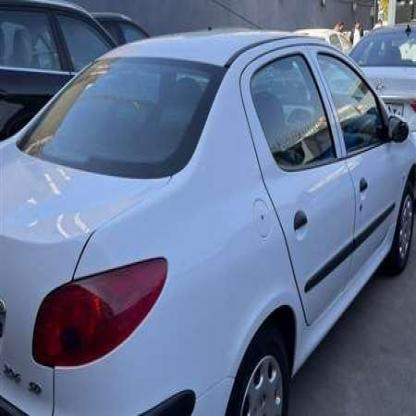Car: (0, 36, 416, 416), (0, 6, 136, 190), (349, 15, 416, 144)
